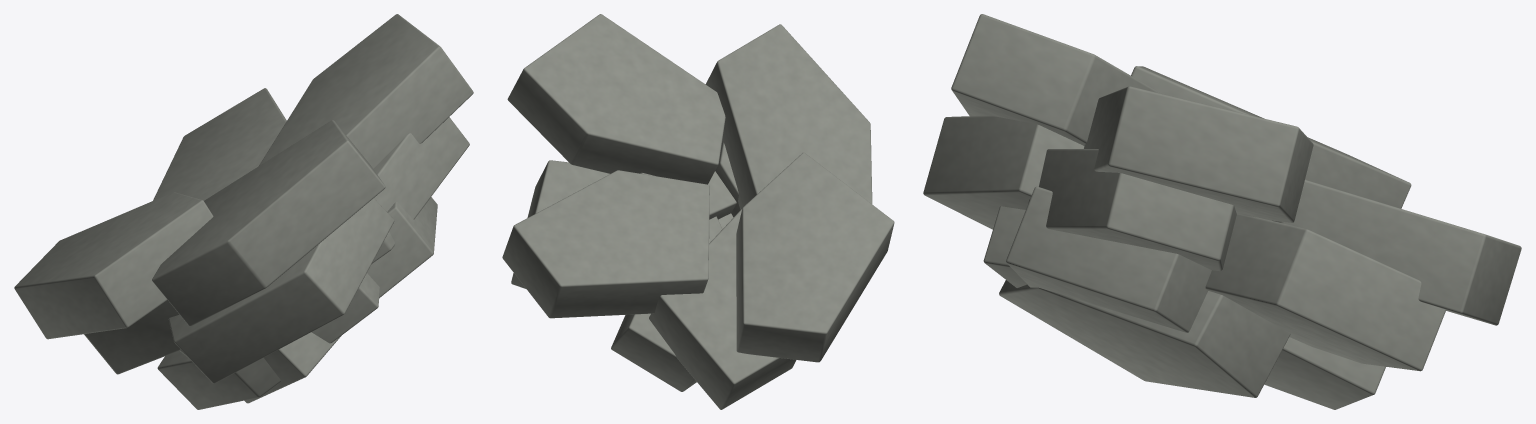
3 renders of one model, left to right at view 1: azimuth 30°, elevation 25°; view 2: azimuth 150°, elevation 25°; view 3: azimuth 270°, elevation 25°, orthographic. The views are drawn at different scales.
Visible parts, largest first — view 1: Broken phase fragment; view 2: Broken phase fragment; view 3: Broken phase fragment.
Boxes of the visible parts, box(x1,y1,x2,y2) form: Broken phase fragment: box(14, 14, 473, 409); Broken phase fragment: box(502, 14, 894, 409); Broken phase fragment: box(923, 14, 1521, 409).
Bounding box in the file's own units: 0.8476 × 0.6876 × 0.8623.
Materials: 1 (1 with a texture image).
